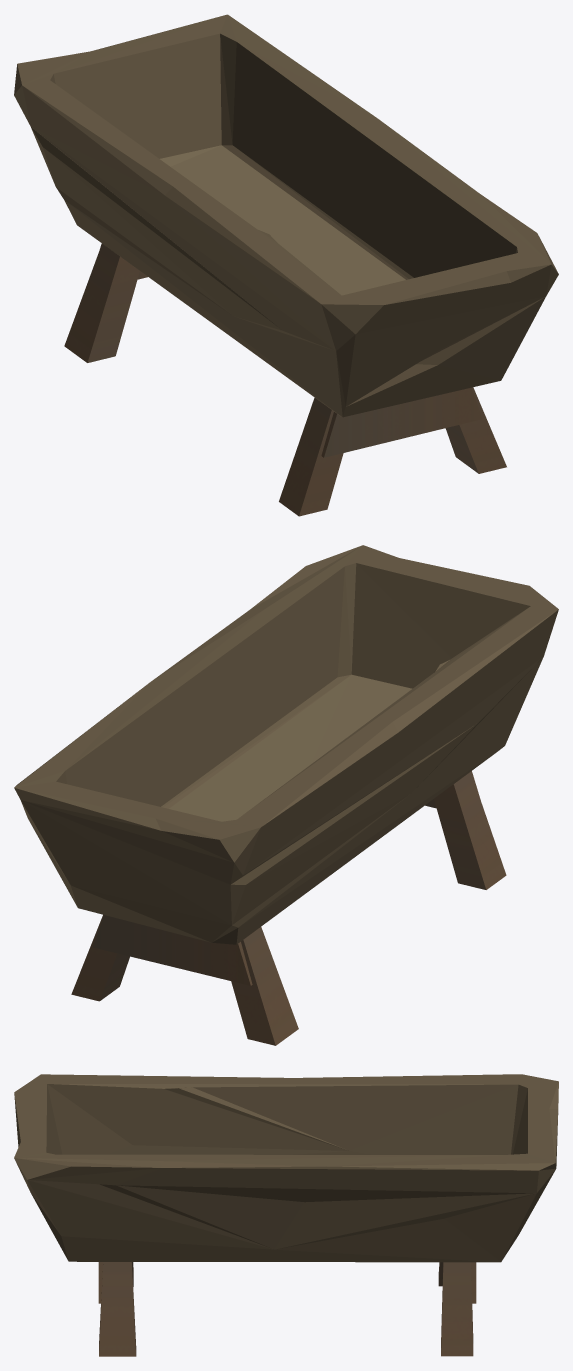
Rendered from Trough_1.fbx.
3 views of the same model, one above another, from view 1: azimuth 30°, elevation 25°; view 2: azimuth 150°, elevation 25°; view 3: azimuth 270°, elevation 25° (orthographic). The views are drawn at different scales.
Visible parts, largest first — view 1: polySurface9728; view 2: polySurface9728; view 3: polySurface9728.
Boxes of the visible parts, x1=… form: polySurface9728: x1=14, y1=14, x2=558, y2=516; polySurface9728: x1=14, y1=545, x2=558, y2=1045; polySurface9728: x1=14, y1=1074, x2=558, y2=1356.
Size of the model in its own units: 103 by 102 by 258.
